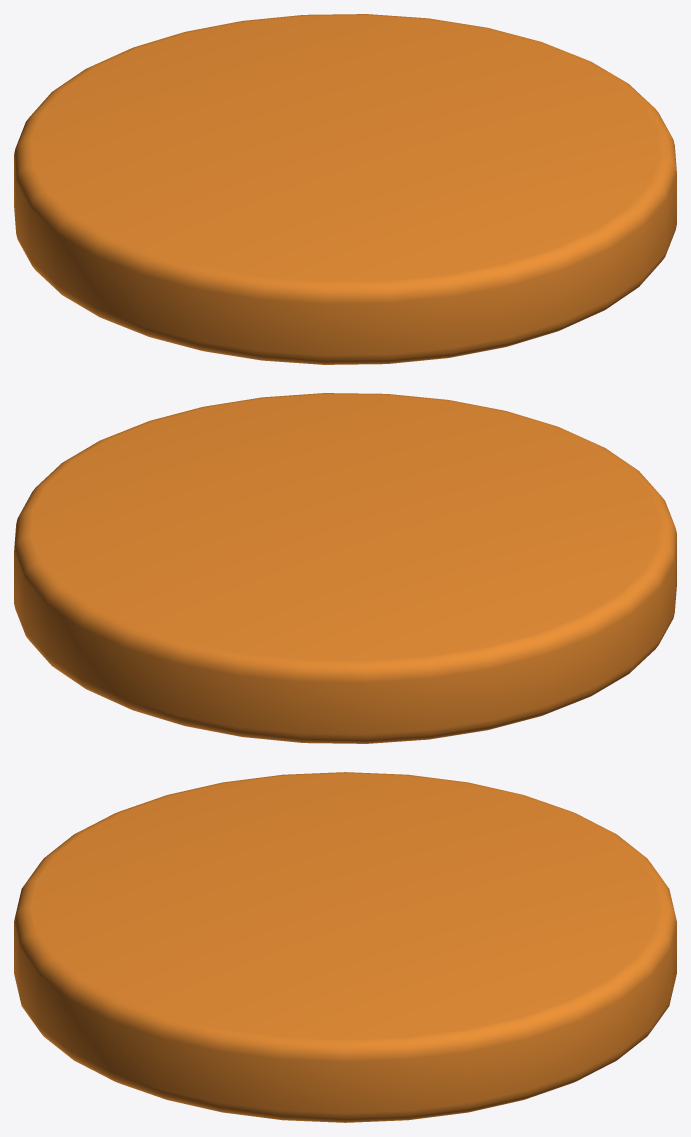
File: hamburger_bread_bottom.fbx
3 renders of one model, top to bottom at view 1: azimuth 30°, elevation 25°; view 2: azimuth 150°, elevation 25°; view 3: azimuth 270°, elevation 25°, orthographic.
Visible parts, largest first — view 1: bread_bottom; view 2: bread_bottom; view 3: bread_bottom.
Boxes of the visible parts, bbox=[...] form: bread_bottom: bbox=[14, 14, 676, 364]; bread_bottom: bbox=[14, 393, 676, 743]; bread_bottom: bbox=[14, 772, 676, 1122].
Size of the model in its own units: 99.74 by 13.57 by 99.74.
